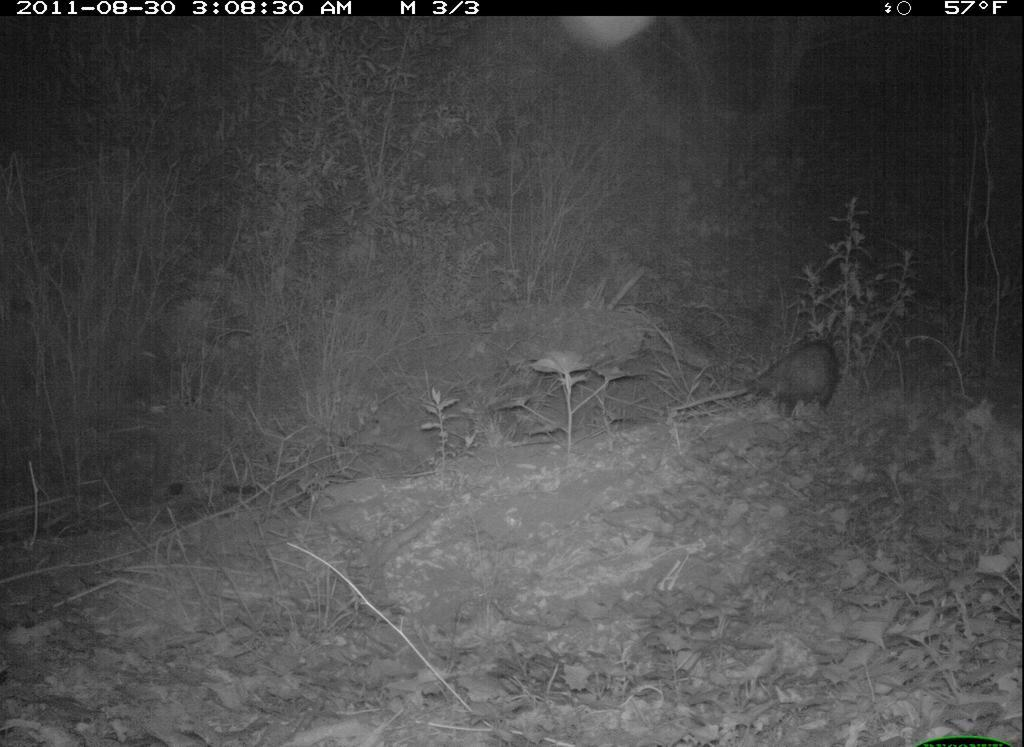opossum: (739, 332, 849, 420)
